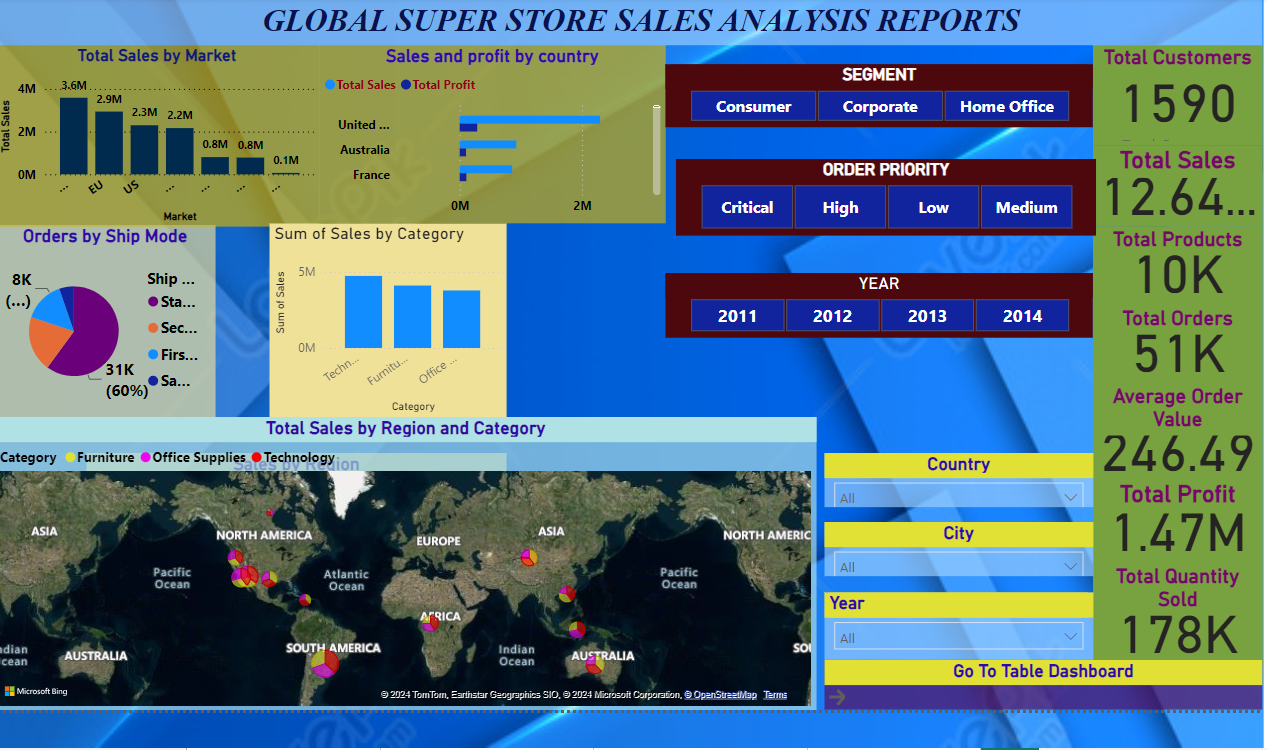

The dashboard page shown, as its layout file describes it:
{"tool":"powerbi","page":{"name":"Sales Analysis","canvas":[1280,720],"ordinal":3},"visuals":[{"type":"card","title":"Total Sales","fields":{"Values":["Orders.Total Sales"]},"box":[1108.4,149.9,171.1,81.8],"z":0},{"type":"card","title":"Total Profit","fields":{"Values":["Orders.Total Profit"]},"box":[1108.4,487.6,171.1,84.8],"z":1000},{"type":"card","title":"Total Quantity Sold","fields":{"Values":["Orders.Total Quantity Sold"]},"box":[1108.4,572.4,171.1,101.5],"z":2000},{"type":"card","title":"Total Orders","fields":{"Values":["Orders.Total Orders"]},"box":[1108.4,311.9,171.1,78.7],"z":3000},{"type":"card","title":"Average Order Value","fields":{"Values":["Orders.Avg Order Value"]},"box":[1108.4,390.7,171.1,96.9],"z":4000},{"type":"card","title":"Total Customers","fields":{"Values":["Orders.Total Customers"]},"box":[1108.4,48.5,171.1,101.5],"z":5000},{"type":"card","title":"Total Products","fields":{"Values":["Orders.Total Products"]},"box":[1108.4,231.7,171.1,80.3],"z":6000},{"type":"pieChart","title":"Orders by Ship Mode","fields":{"Category":["Orders.Ship Mode"],"Y":["Orders.Total Orders"]},"box":[0,230.2,222.6,193.8],"z":7000},{"type":"pieChart","title":"Sales by Region","fields":{"Category":["Orders.Region"],"Y":["Orders.Total Sales"]},"box":[92.4,460.3,424,209],"z":8000},{"type":"clusteredBarChart","title":"Sales and profit by country","fields":{"Category":["Orders.Country"],"Y":["Orders.Total Sales","Orders.Total Profit"]},"box":[327.1,48.5,349.8,180.2],"z":9000},{"type":"map","fields":{"Category":["Orders.Region"],"Size":["Orders.Total Sales"],"Series":["Orders.Category"]},"box":[0,423.4,829.4,296.6],"z":10000},{"type":"slicer","title":"Country","fields":{"Values":["Orders.Country"]},"box":[837.4,460.3,271,54.5],"z":11000},{"type":"slicer","title":"City","fields":{"Values":["Orders.City"]},"box":[837.4,530,271,54.5],"z":12000},{"type":"slicer","title":"Year","fields":{"Values":["Orders.Year"]},"box":[837.4,601.1,271,68.1],"z":13000},{"type":"textbox","box":[0,0,1279.5,48.5],"z":14000},{"type":"actionButton","title":"Go To Table Dashboard","box":[837.4,669.3,442.1,50],"z":15000},{"type":"slicer","title":"YEAR","fields":{"Values":["Orders.Year"]},"box":[676.8,278.6,431.5,65.1],"z":16000},{"type":"slicer","title":"SEGMENT","fields":{"Values":["Orders.Segment"]},"box":[676.8,68.1,431.5,63.6],"z":17000},{"type":"slicer","title":"ORDER PRIORITY","fields":{"Values":["Orders.Order Priority"]},"box":[687.4,163.5,424,77.2],"z":18000},{"type":"columnChart","fields":{"Y":["Orders.Total Sales"],"Category":["Orders.Market"]},"box":[0,48.5,327.1,183.2],"z":19000},{"type":"clusteredColumnChart","fields":{"Category":["Orders.Category"],"Y":["Sum(Orders.Sales)"]},"box":[277.1,228.6,239.2,195.3],"z":20000}]}

Visuals, with their boxes on the page's 1280x720 design canvas (x1, y1, x2, y2). These are canvas units, not pixel positions in the 1267x750 screenshot, which may show the page scaled, cropped or inside an application window:
"Total Sales" card: bbox(1108, 150, 1280, 232)
"Total Profit" card: bbox(1108, 488, 1280, 572)
"Total Quantity Sold" card: bbox(1108, 572, 1280, 674)
"Total Orders" card: bbox(1108, 312, 1280, 391)
"Average Order Value" card: bbox(1108, 391, 1280, 488)
"Total Customers" card: bbox(1108, 48, 1280, 150)
"Total Products" card: bbox(1108, 232, 1280, 312)
"Orders by Ship Mode" pieChart: bbox(0, 230, 223, 424)
"Sales by Region" pieChart: bbox(92, 460, 516, 669)
"Sales and profit by country" clusteredBarChart: bbox(327, 48, 677, 229)
map - Orders.Region x Orders.Total Sales: bbox(0, 423, 829, 720)
"Country" slicer: bbox(837, 460, 1108, 515)
"City" slicer: bbox(837, 530, 1108, 584)
"Year" slicer: bbox(837, 601, 1108, 669)
textbox: bbox(0, 0, 1280, 48)
"Go To Table Dashboard" actionButton: bbox(837, 669, 1280, 719)
"YEAR" slicer: bbox(677, 279, 1108, 344)
"SEGMENT" slicer: bbox(677, 68, 1108, 132)
"ORDER PRIORITY" slicer: bbox(687, 164, 1111, 241)
columnChart - Orders.Total Sales x Orders.Market: bbox(0, 48, 327, 232)
clusteredColumnChart - Orders.Category x Sum(Orders.Sales): bbox(277, 229, 516, 424)
